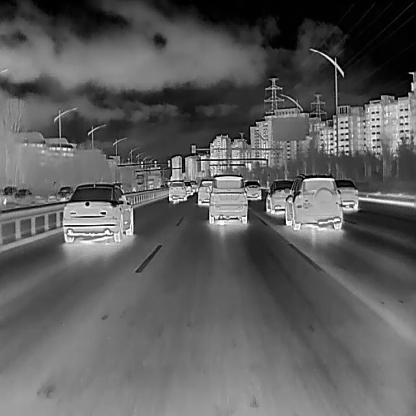car: (61, 181, 134, 242), (283, 173, 342, 231), (207, 172, 248, 224), (264, 176, 296, 214), (331, 178, 357, 210), (242, 177, 262, 201), (167, 178, 187, 201), (196, 178, 212, 204), (12, 187, 34, 203), (54, 184, 74, 200), (134, 170, 147, 189), (1, 184, 17, 199), (146, 174, 159, 188), (182, 181, 192, 197), (188, 180, 198, 194)
